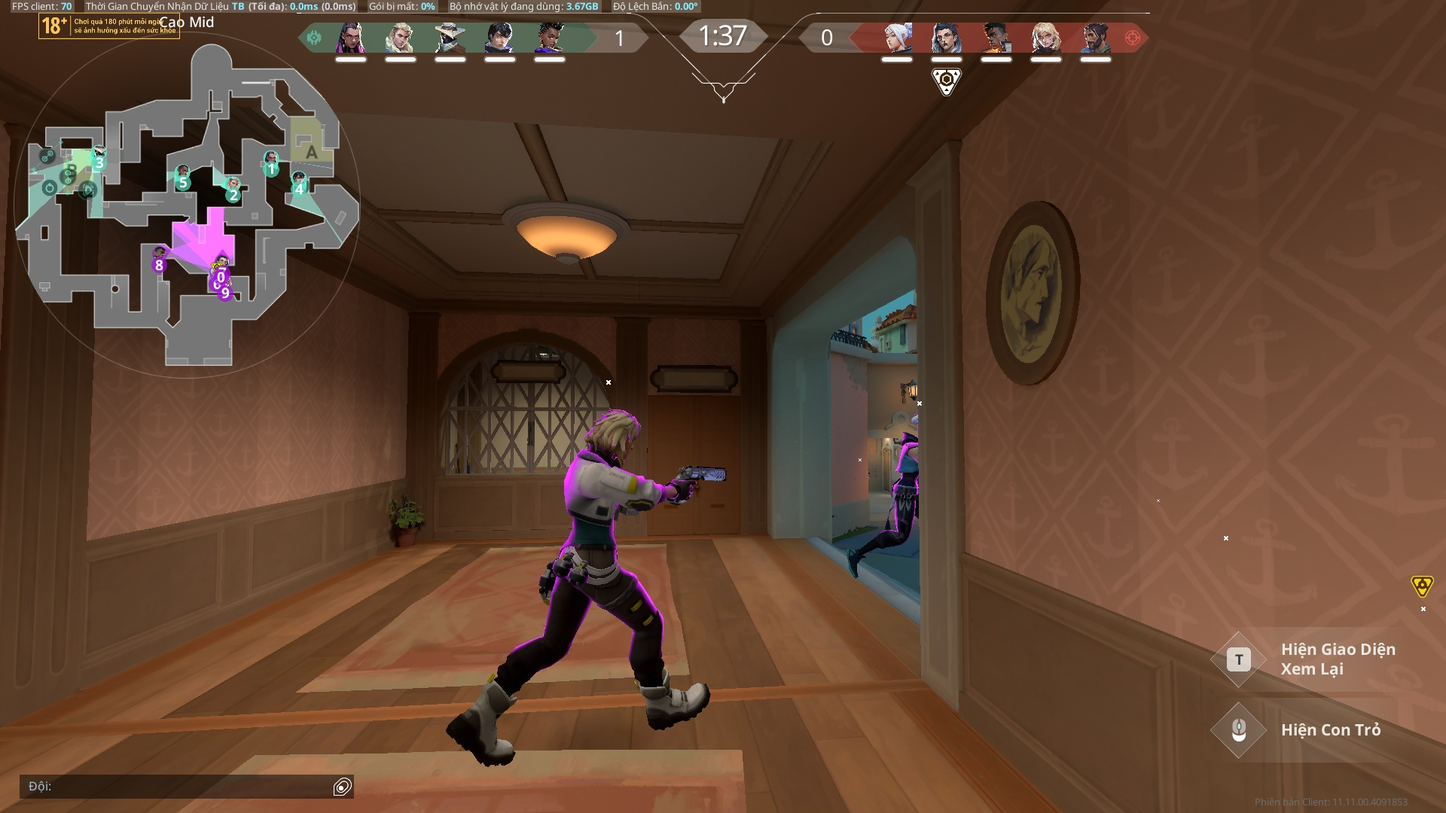body: (557, 447, 632, 565), (898, 436, 920, 486)
head: (586, 408, 644, 462)
